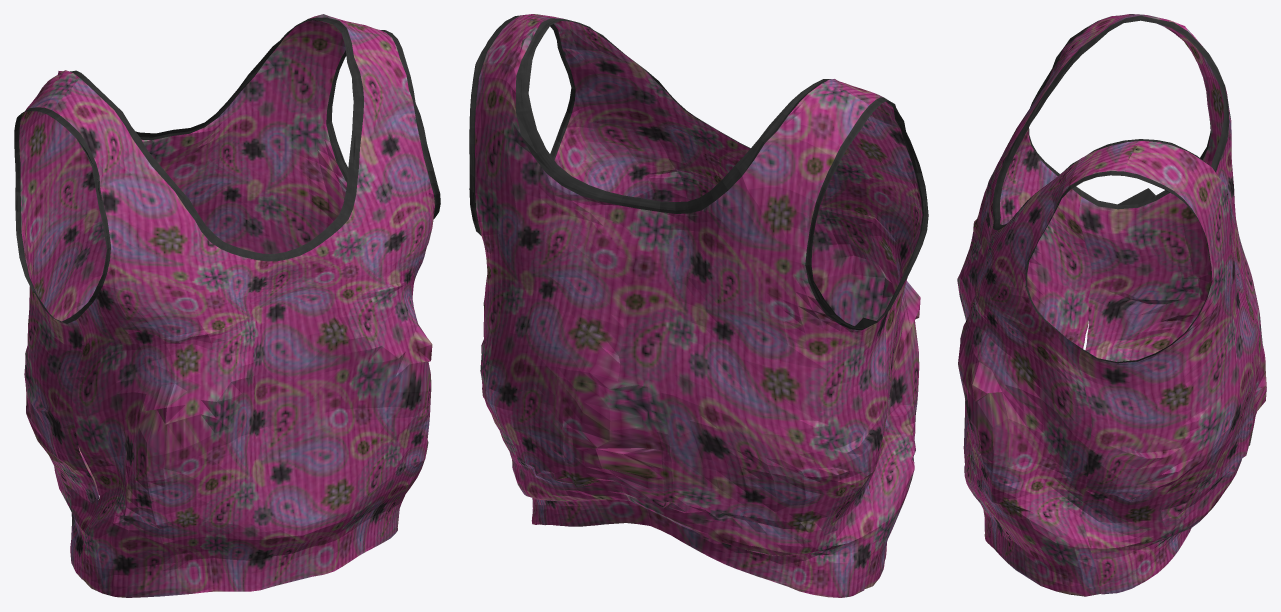
File: mhw_toigo_camisole_top.glb
3 renders of one model, left to right at view 1: azimuth 30°, elevation 25°; view 2: azimuth 150°, elevation 25°; view 3: azimuth 270°, elevation 25°, orthographic. The views are drawn at different scales.
Visible parts, largest first — view 1: mhw_toigo_camisole_top; view 2: mhw_toigo_camisole_top; view 3: mhw_toigo_camisole_top.
Part boxes in pixels (box(x1,y1,x2,y2)): mhw_toigo_camisole_top: box(14, 14, 440, 597); mhw_toigo_camisole_top: box(469, 14, 928, 597); mhw_toigo_camisole_top: box(957, 14, 1266, 596).
Size of the model in its own units: 0.3659 by 0.489 by 0.3004.
Materials: 1 (1 with a texture image).
